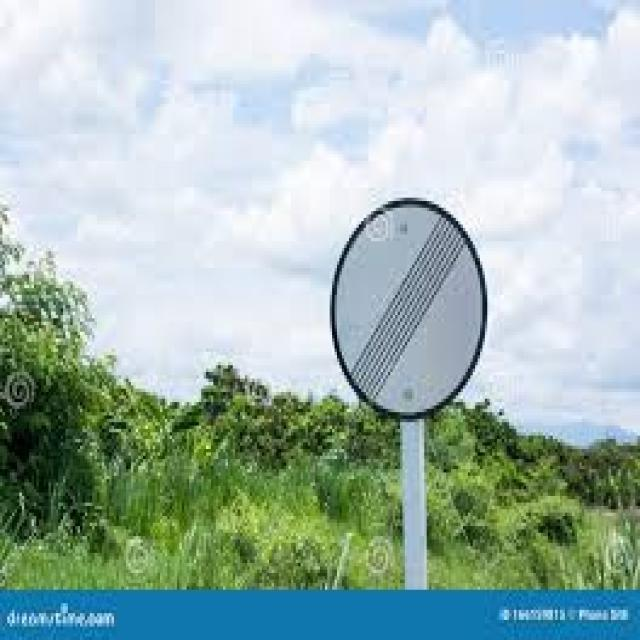restriction ends: (333, 197, 487, 416)
